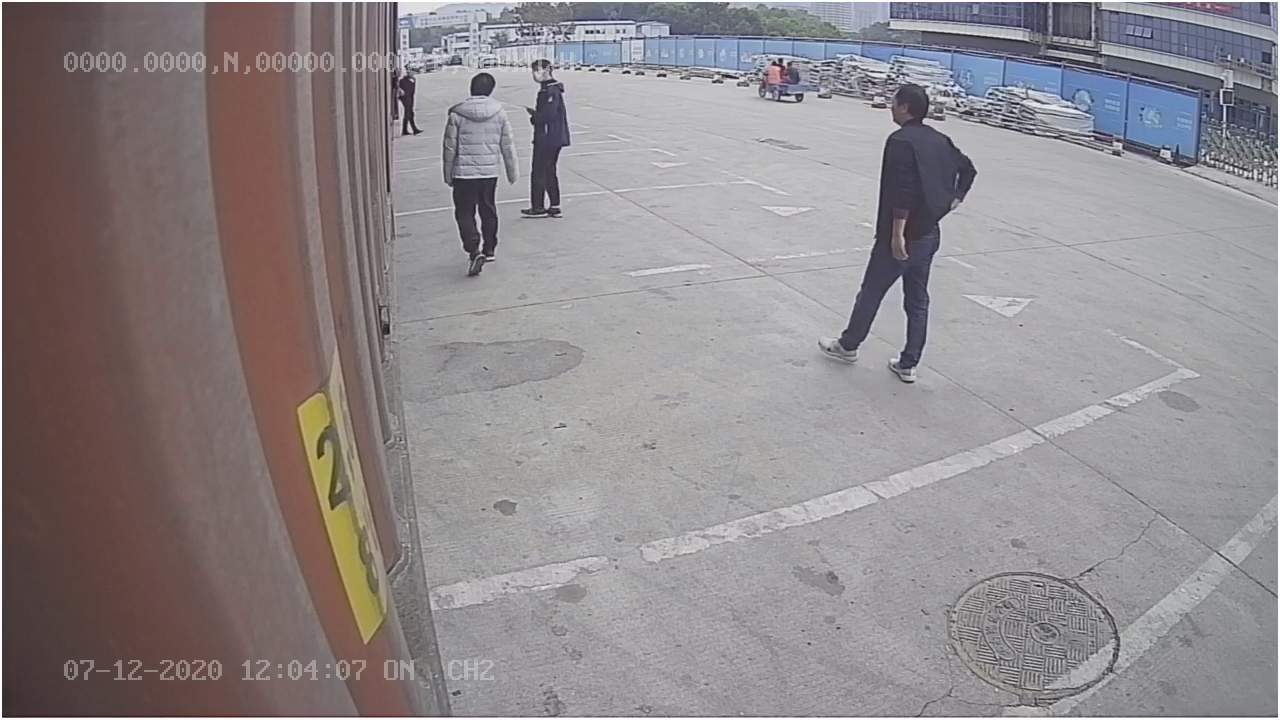person: (814, 81, 978, 382)
